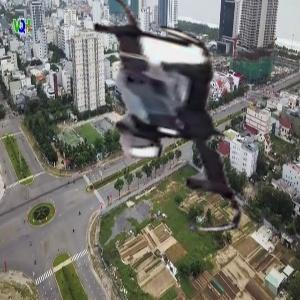drone: (57, 5, 283, 231)
